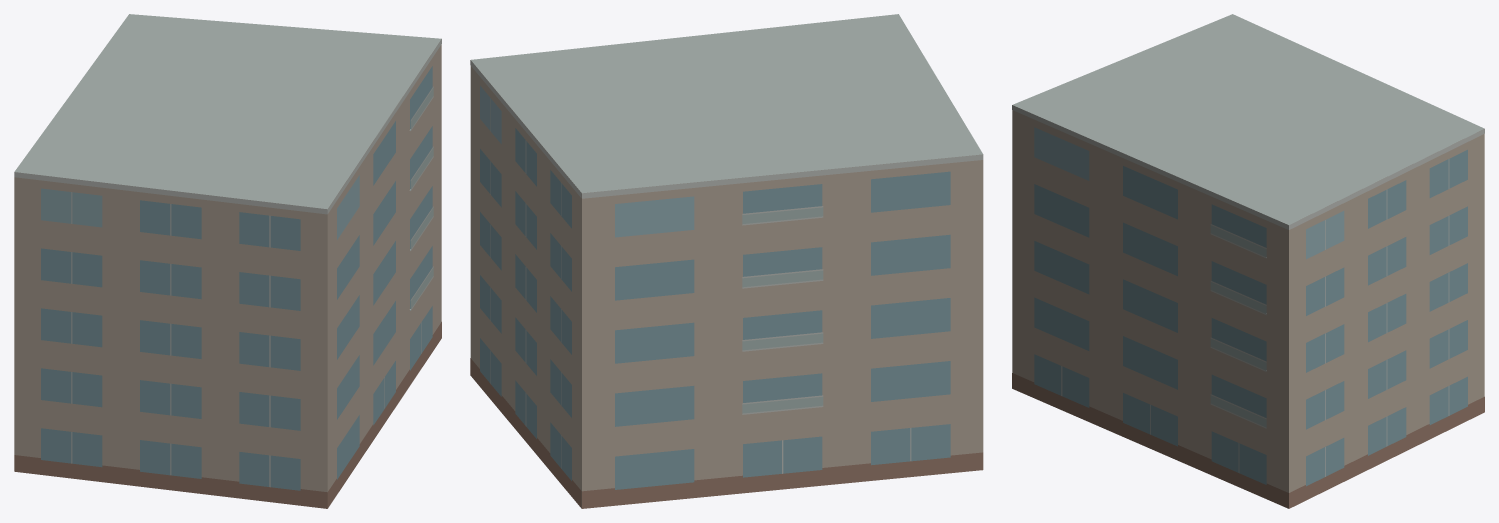
File: survey-upis-32461996.glb
3 views of the same model, side by side, from view 1: azimuth 30°, elevation 25°; view 2: azimuth 150°, elevation 25°; view 3: azimuth 270°, elevation 25° (orthographic). The views are drawn at different scales.
Visible parts, largest first — view 1: survey-upis-32461996.tmp; view 2: survey-upis-32461996.tmp; view 3: survey-upis-32461996.tmp.
Boxes of the visible parts, x1,y1,x2,y2 form: survey-upis-32461996.tmp: [14, 14, 441, 508]; survey-upis-32461996.tmp: [470, 14, 983, 508]; survey-upis-32461996.tmp: [1012, 14, 1484, 508].
Bounding box in the file's own units: 22.28 × 13.95 × 21.07.
